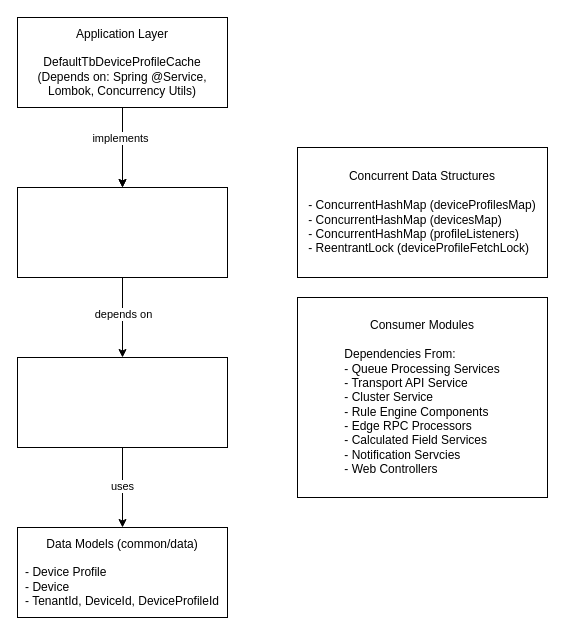
This 565x635 diagram has some shape labels left out. The centre of each missing label's shape, as x and y in pixels:
"DAO Layer (dao-api) - DeviceProfileService - DeviceService" belongs at (x=122, y=402).
"Interface Layer TbDeviceProfileCache (Extends: RuleEngineDeviceProfileCache)" belongs at (x=122, y=232).
